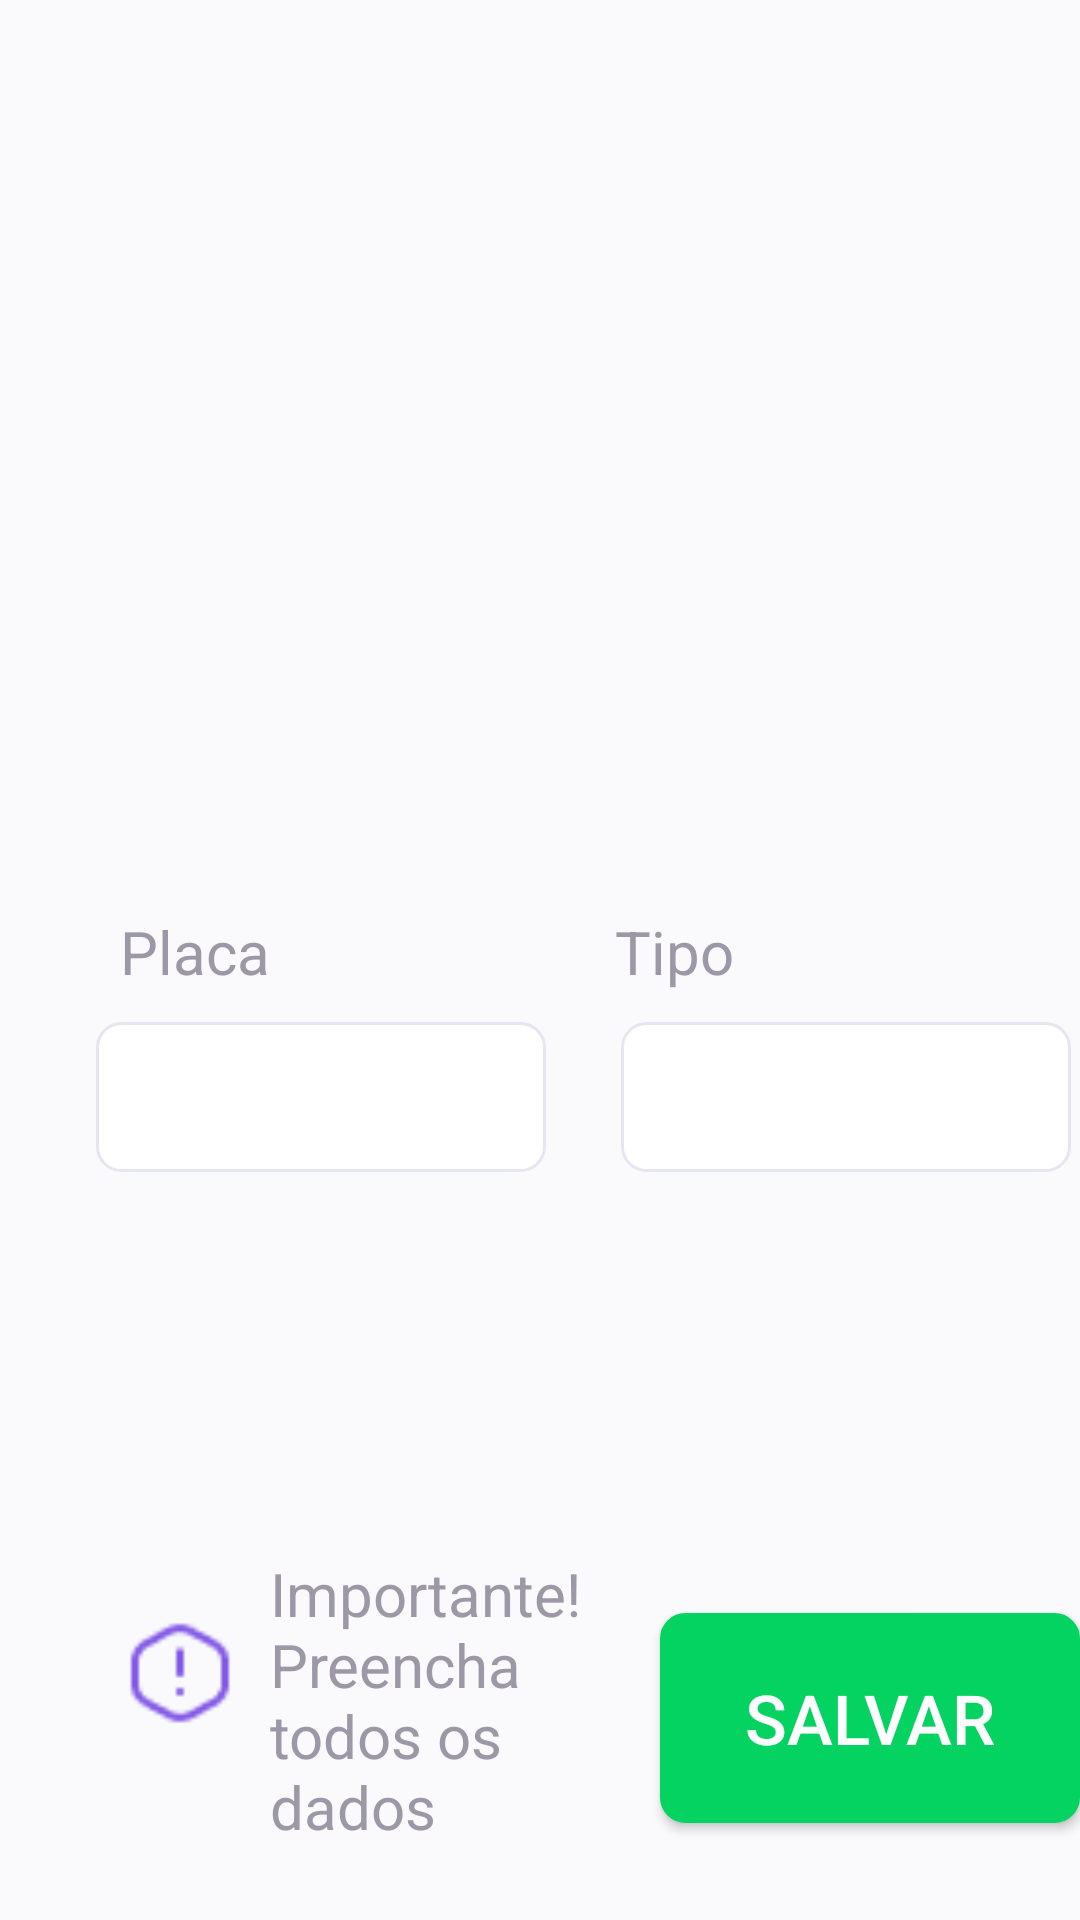

Named icons in this screenshot (1080px×1920px) and their bounding boxes, Rect(x1, y1, x2, y2):
atencao: Rect(130, 1623, 230, 1723)
